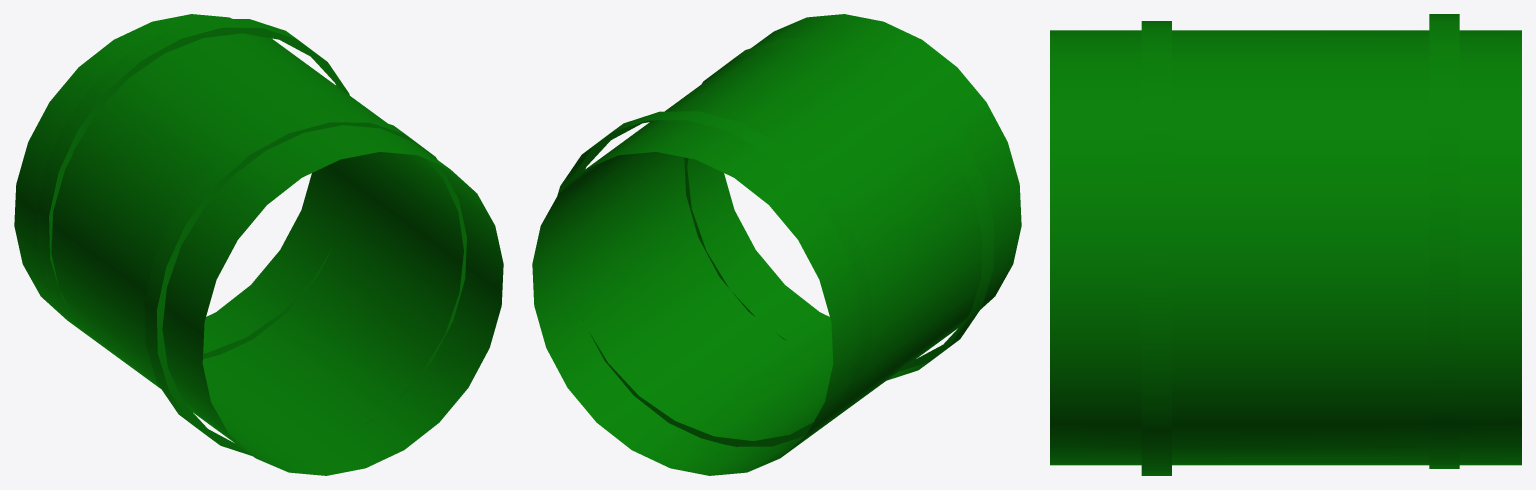
3 renders of one model, left to right at view 1: azimuth 30°, elevation 25°; view 2: azimuth 150°, elevation 25°; view 3: azimuth 270°, elevation 25°, orthographic. The views are drawn at different scales.
Bounding box in the file's own units: 0.5039 × 0.5063 × 0.5139.
